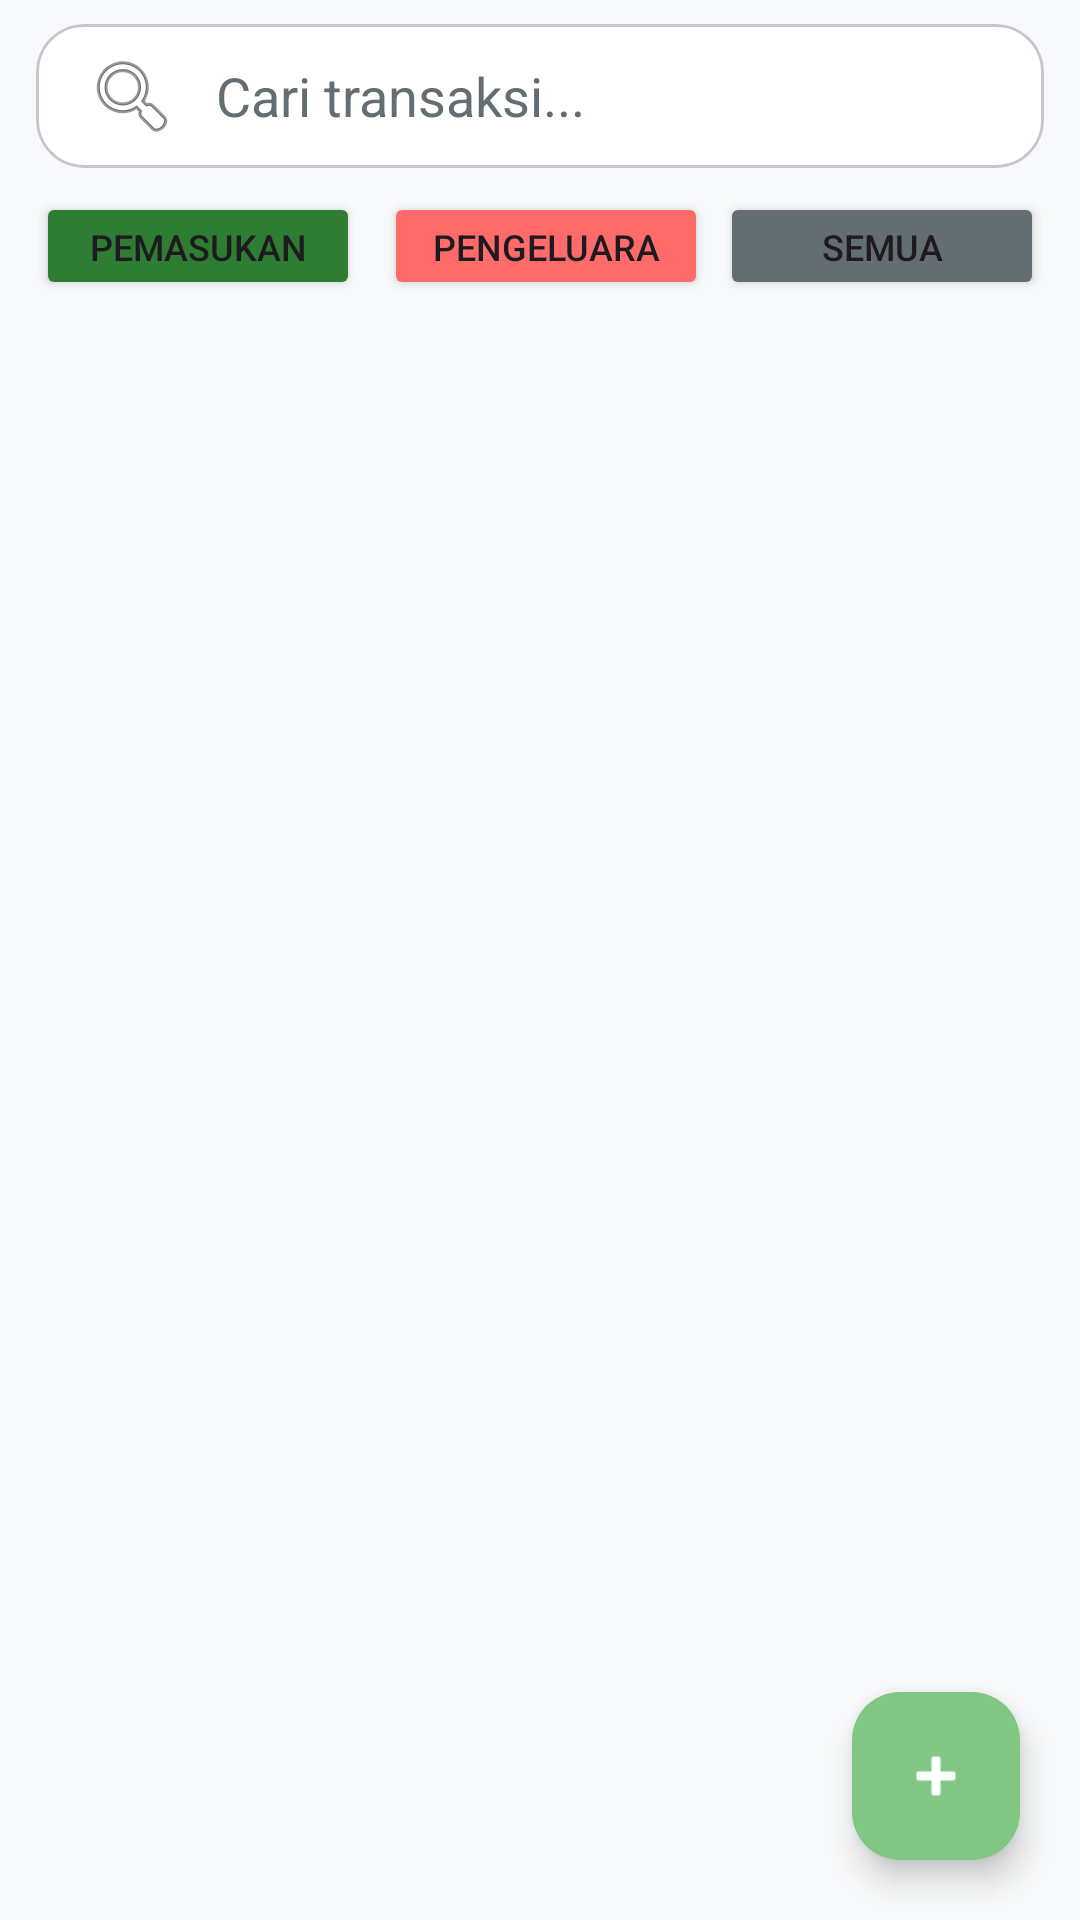

Where icons sit on this 1080x1920 app screen, as (x1, y1, x2, y2):
Tambah Transaksi: (852, 1692, 1020, 1860)
